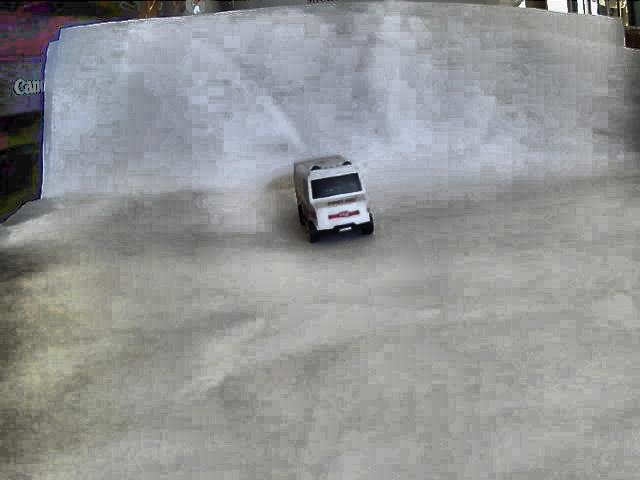ambulance: (292, 154, 373, 242)
